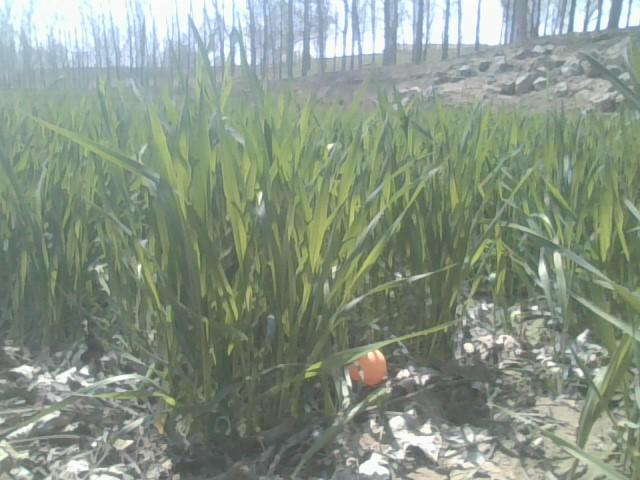ball: (351, 351, 384, 386)
